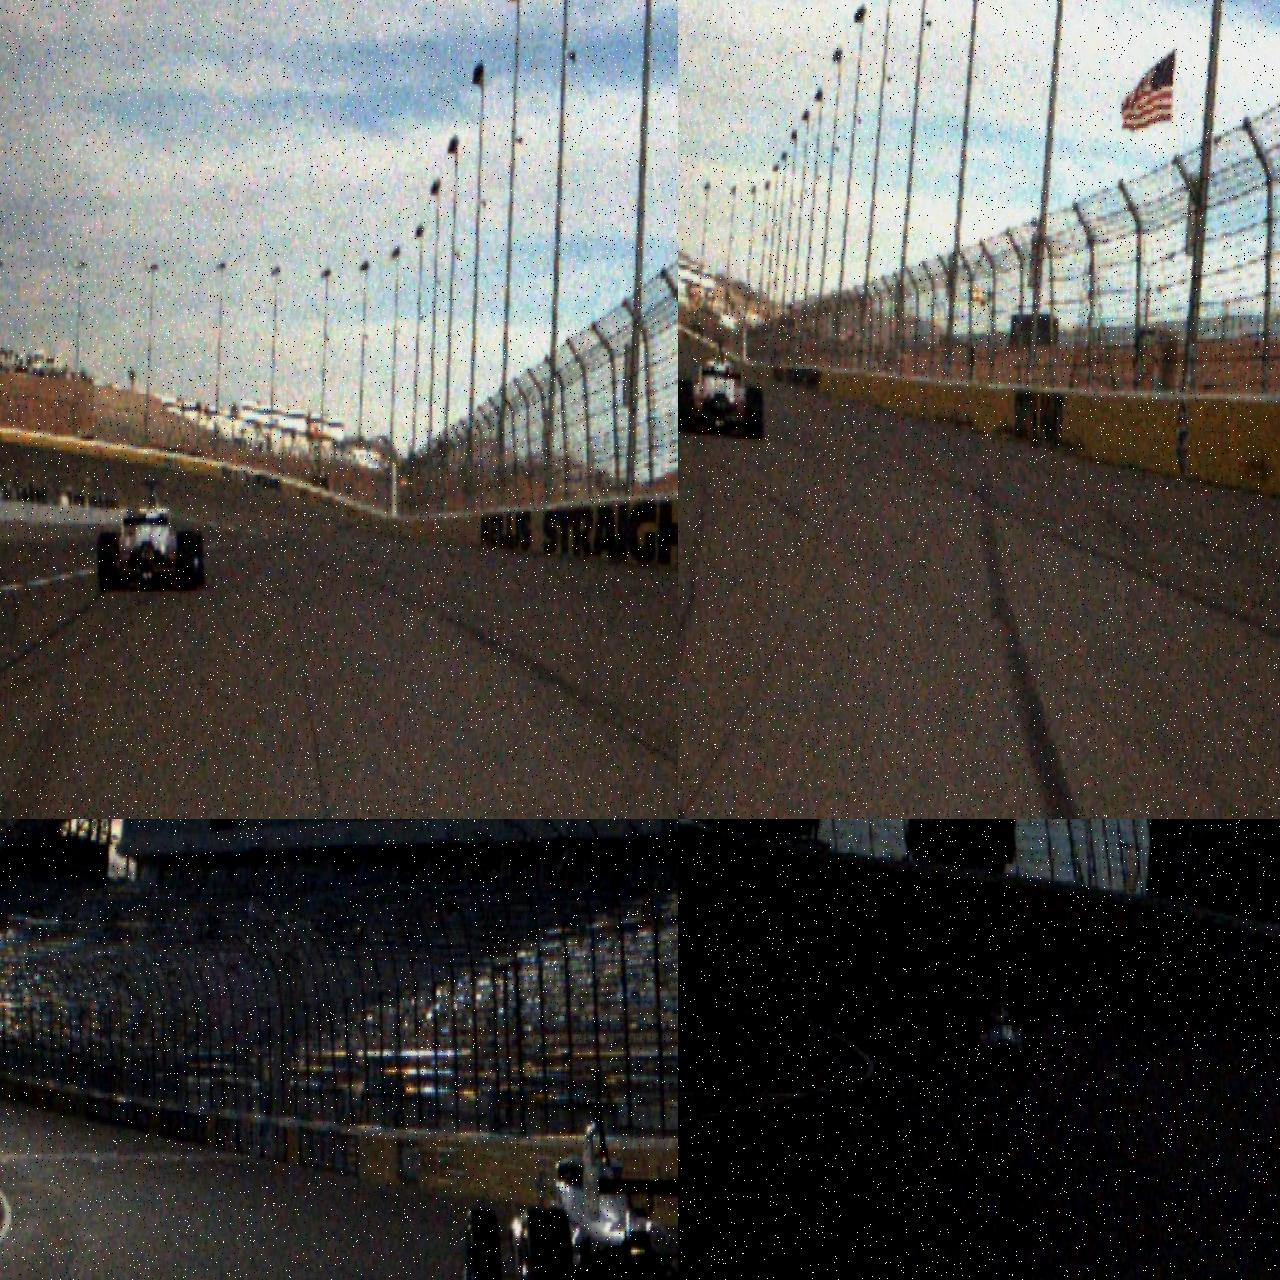AV: (456, 1096, 678, 1280), (95, 477, 205, 593), (678, 336, 764, 441), (965, 994, 1041, 1078)
Wheel: (517, 1206, 573, 1280), (464, 1207, 503, 1280), (97, 532, 120, 590), (177, 531, 197, 591), (745, 384, 764, 440), (1023, 1024, 1041, 1073), (678, 380, 693, 431), (966, 1032, 982, 1078)
